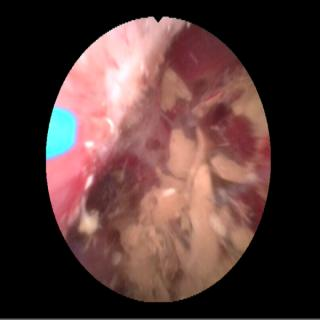fiber: (48, 108, 76, 157)
stone: (114, 124, 257, 297), (234, 72, 266, 137), (159, 70, 190, 108), (78, 211, 101, 237)
tissue: (50, 21, 267, 222)
